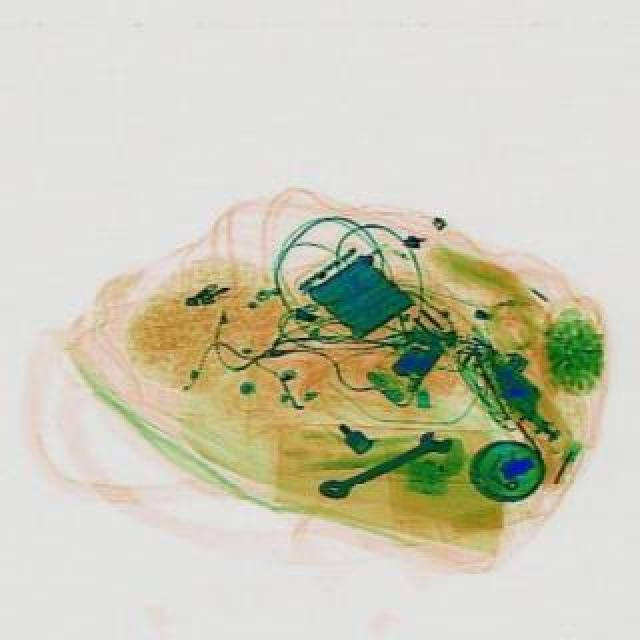scissors: (314, 422, 456, 508)
